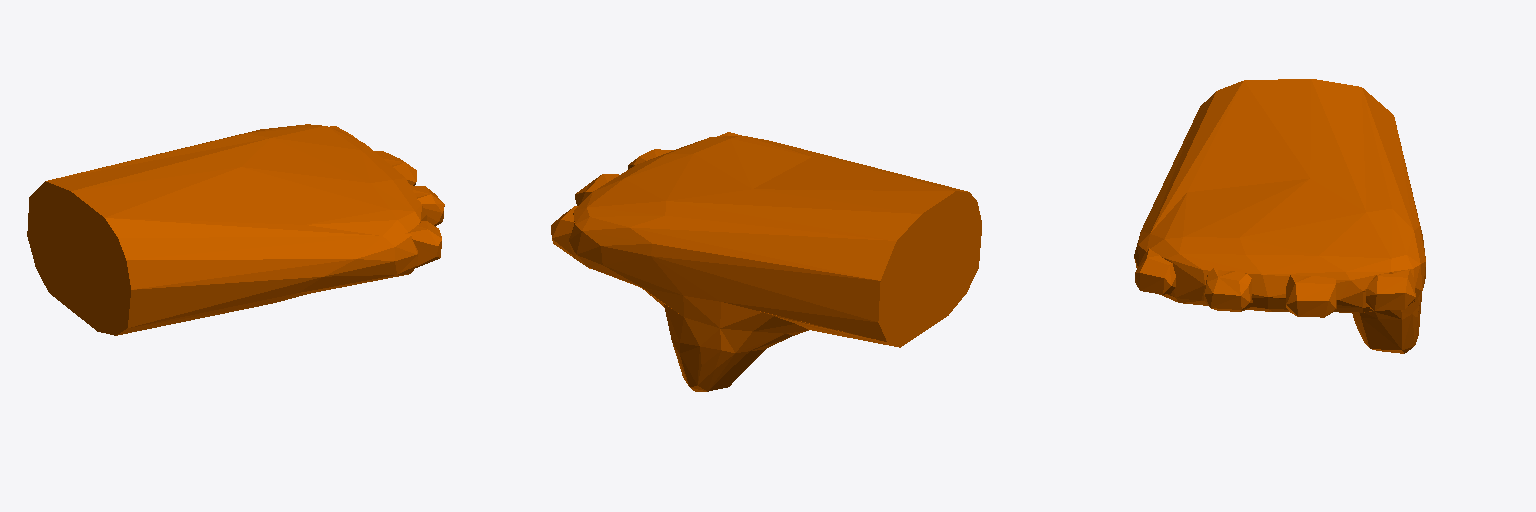
File: palm_r_col.obj
3 renders of one model, left to right at view 1: azimuth 30°, elevation 25°; view 2: azimuth 150°, elevation 25°; view 3: azimuth 270°, elevation 25°, orthographic.
Size of the model in its own units: 0.1594 by 0.085 by 0.119.